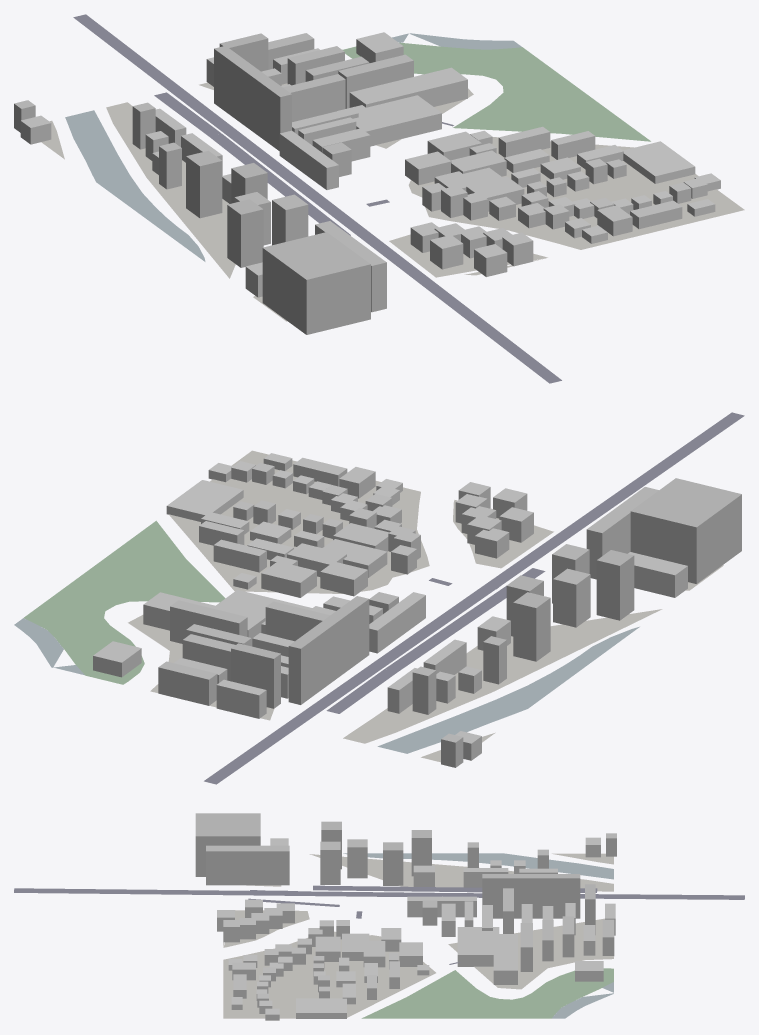
Rendered from 111_100_mid.glb.
3 views of the same model, one above another, from view 1: azimuth 30°, elevation 25°; view 2: azimuth 150°, elevation 25°; view 3: azimuth 270°, elevation 25° (orthographic). The views are drawn at different scales.
Size of the model in its own units: 516 by 58.23 by 935.
